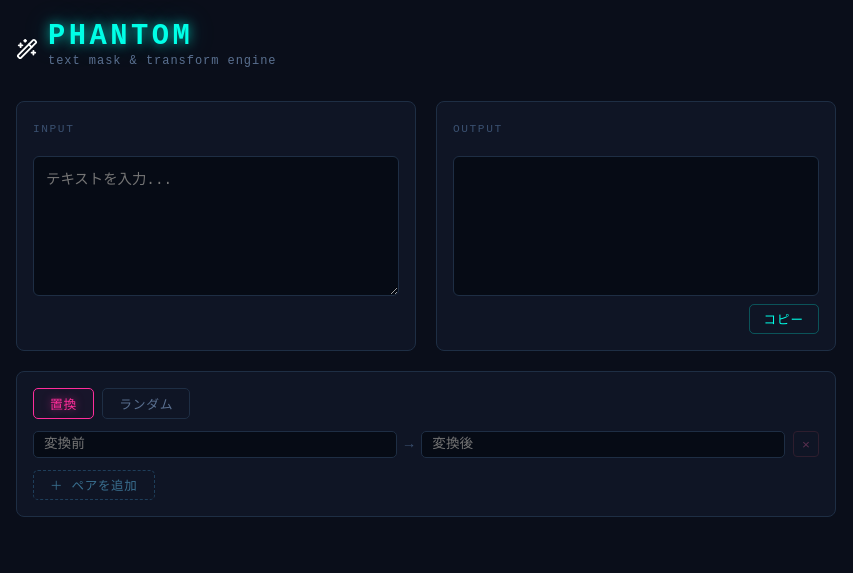
Test: 置換ペア › 複数ペアが順番に適用される
This screenshot has width=853, height=573.
Step 1. Type "aaa" into the text box with placeholder "テキストを入力..." → (216, 226), box [33,156,399,296]
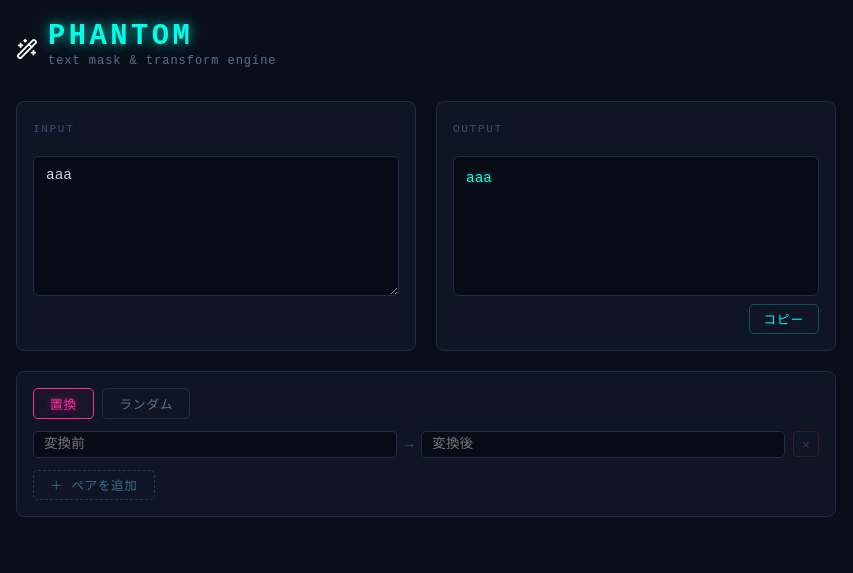
Step 2. Type "a" into the field with placeholder "変換前" → (215, 444), box [33,431,397,458]
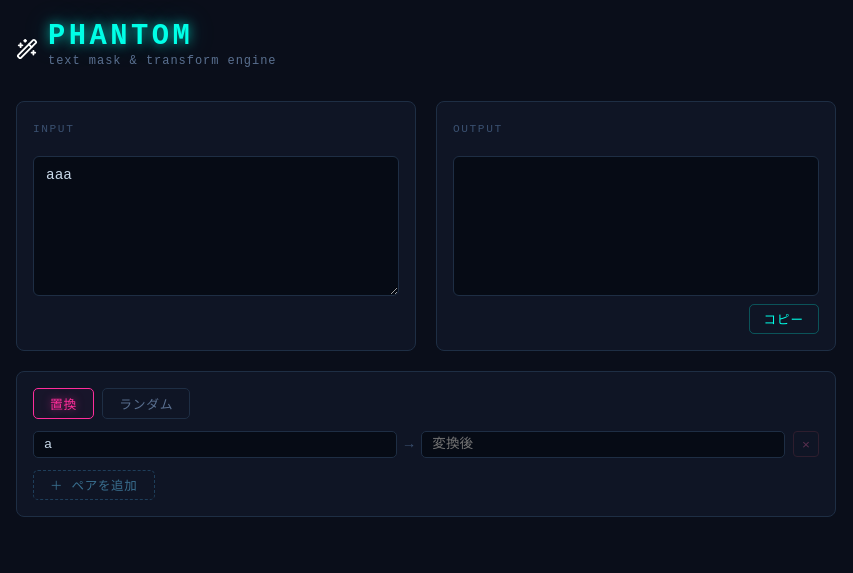
Step 3. Type "b" into the field with placeholder "変換後" → (603, 444), box [421,431,785,458]
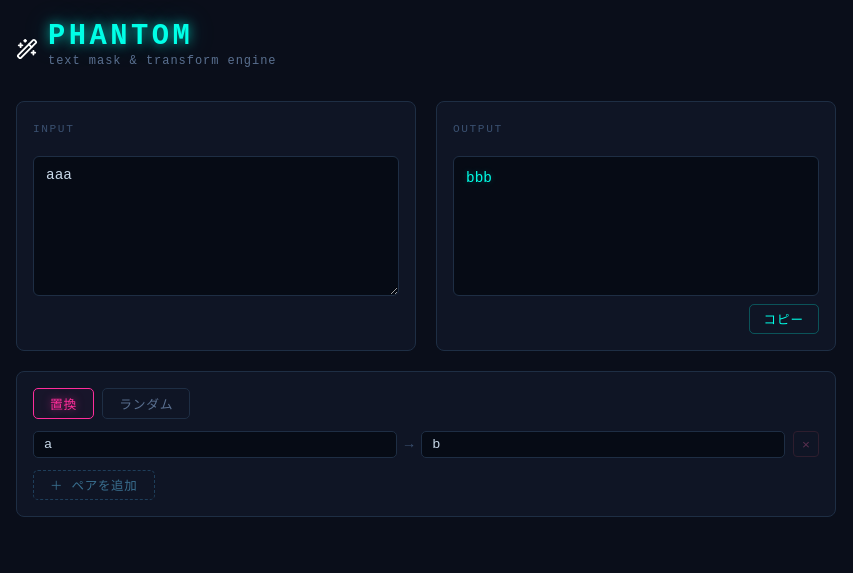
Step 4. Click the button "＋ ペアを追加" → (94, 485), box [33,470,154,500]
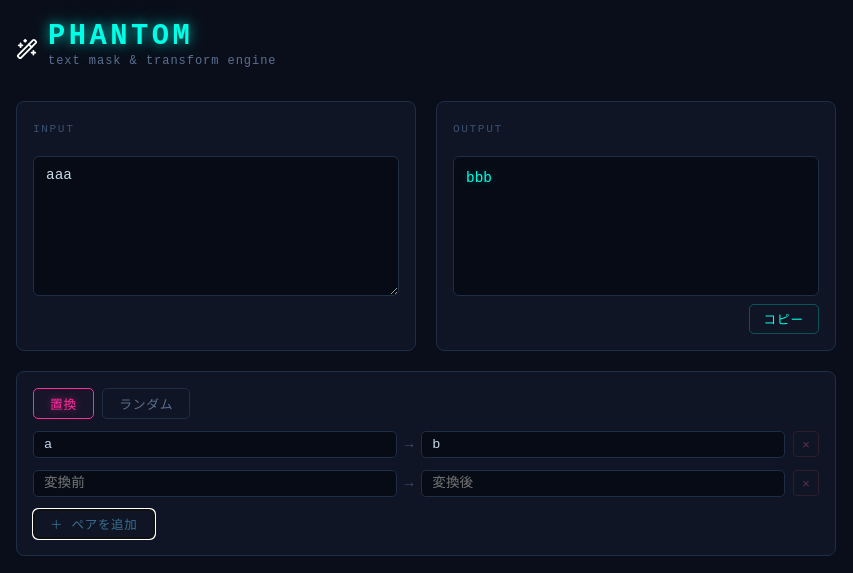
Step 5. Type "b" into the field with placeholder "変換前" → (215, 483), box [33,470,397,497]
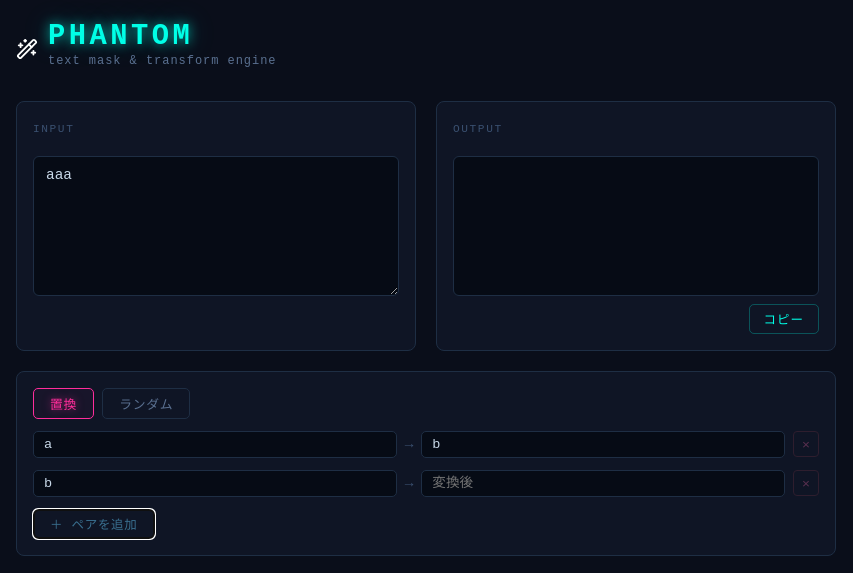
Step 6. Type "c" into the field with placeholder "変換後" → (603, 483), box [421,470,785,497]
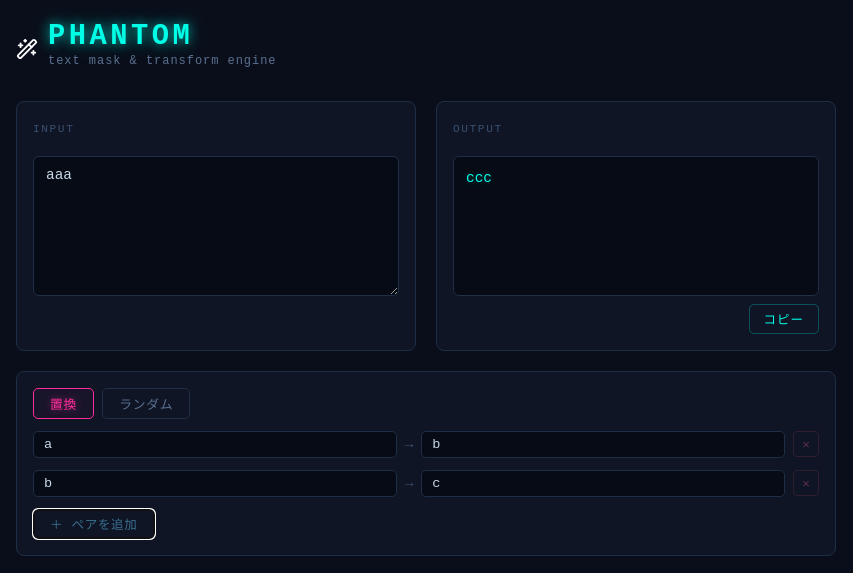
Expected: the text "ccc" is shown, [453,156,819,296]
